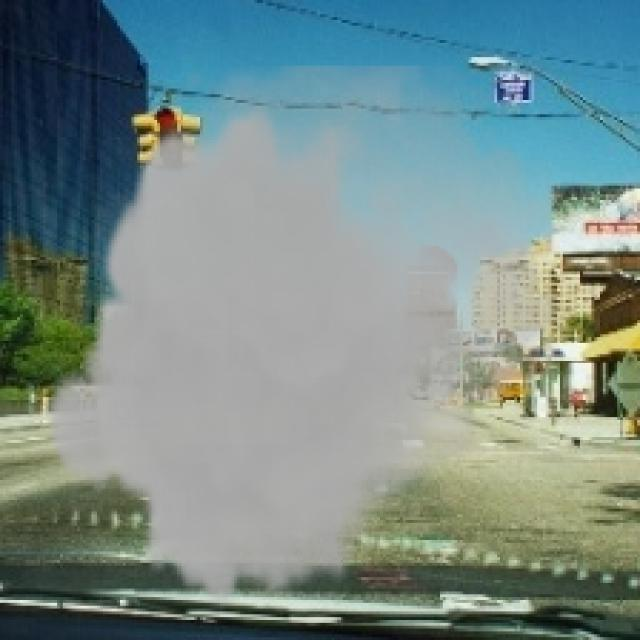Smoke: (42, 66, 578, 608)
